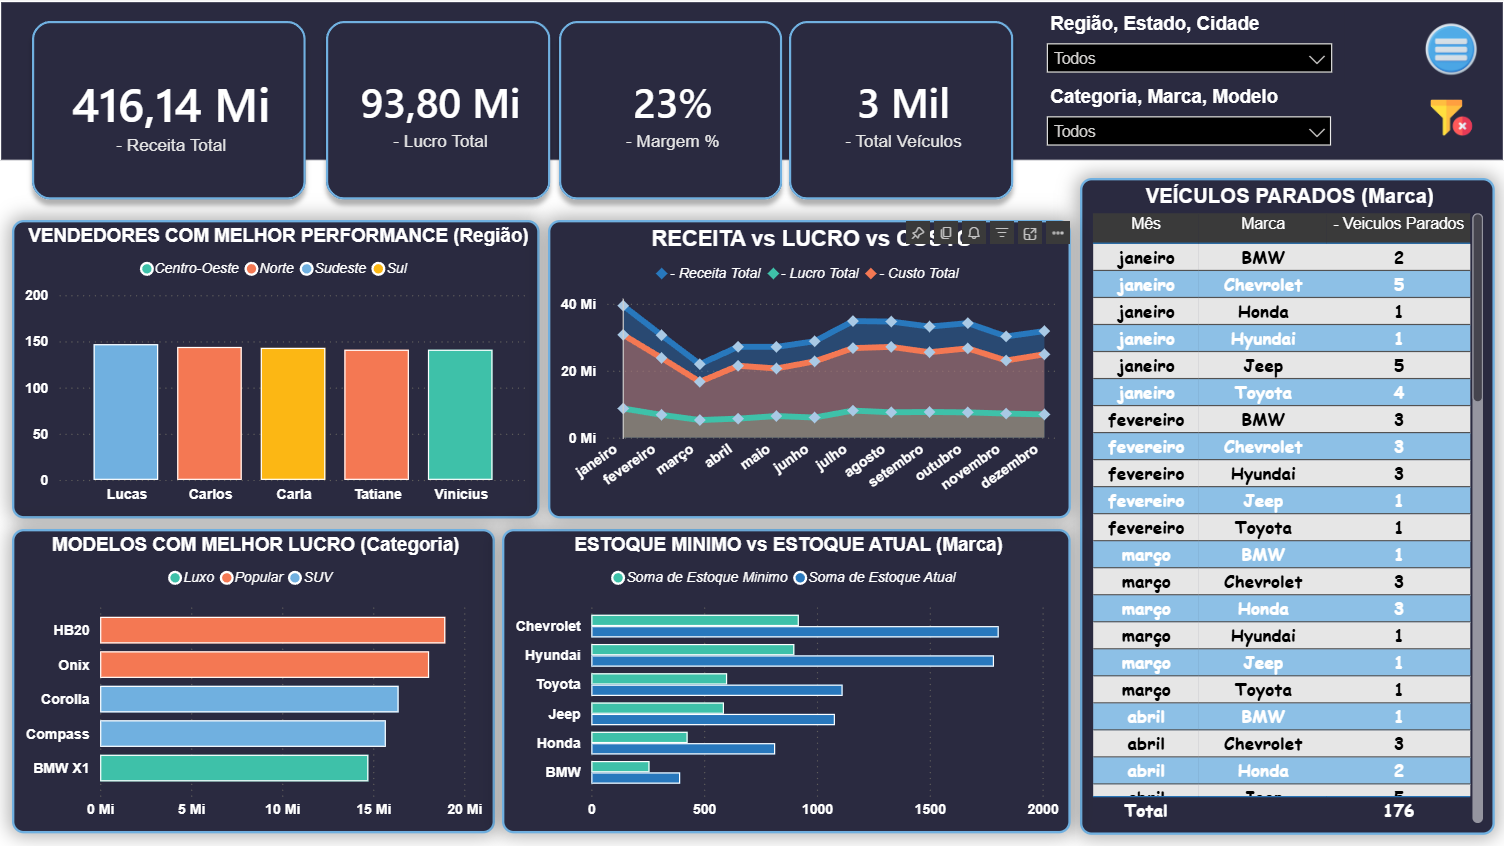

What the dashboard file says about the page in this screenshot:
{"tool":"powerbi","page":{"name":"DASHBOARD - PRINCIPAL","canvas":[1280,720],"ordinal":0},"visuals":[{"type":"shape","box":[0,0,1280,136.1],"z":0},{"type":"cardVisual","fields":{"Data":["Base.Imp Margem %"]},"box":[458.3,0,224.7,186.2],"z":1000},{"type":"cardVisual","fields":{"Data":["Base.Imp Lucro Total"]},"box":[260.6,0,226,186.2],"z":2000},{"type":"cardVisual","title":"RECEITA ","fields":{"Data":["Base.Imp Receita Total"]},"box":[10.3,0,267,186.2],"z":3000},{"type":"cardVisual","fields":{"Data":["Base.Imp Total Veículos"]},"box":[654.8,0,226,186.2],"z":4000},{"type":"columnChart","title":"VENDEDORES COM MELHOR PERFORMANCE (Região)","fields":{"Category":["Base.Vendedor"],"Y":["Base.Imp Total Veículos"],"Series":["Base.Regiao"]},"box":[10.3,186.2,449.3,254.2],"z":5000},{"type":"tableEx","title":"VEÍCULOS PARADOS (Marca)","fields":{"Values":["Base.Data.Variation.Hierarquia de datas.Mês","Base.Marca","Base.- Veiculos Parados"]},"box":[919.5,150.7,353,559],"z":6000},{"type":"barChart","title":"MODELOS COM MELHOR LUCRO (Categoria)","fields":{"Category":["Base.Modelo"],"Y":["Base.Imp Lucro Total"],"Series":["Base.Categoria"]},"box":[10.3,449.3,410.8,259.3],"z":7000},{"type":"clusteredBarChart","title":"ESTOQUE MINIMO vs ESTOQUE ATUAL (Marca)","fields":{"Y":["Sum(Base.Estoque Minimo)","Sum(Base.Estoque Atual)"],"Category":["Base.Marca"]},"box":[427.5,449.3,484,259.3],"z":8000},{"type":"lineChart","title":"RECEITA vs LUCRO vs CUSTO","fields":{"Y":["Base.Imp Receita Total","Base.Imp Lucro Total","Base.Imp Custo Total"],"Category":["Base.Data.Variation.Hierarquia de datas.Mês"]},"box":[466,186.2,445.5,254.2],"z":9000},{"type":"image","box":[1212.2,10,46.5,61.6],"z":11000},{"type":"slicer","fields":{"Values":["Base.Regiao","Base.Estado","Base.Cidade"]},"box":[880.5,6.3,262.5,64.1],"z":18000},{"type":"slicer","fields":{"Values":["Base.Categoria","Base.Marca","Base.Modelo"]},"box":[880.5,68.3,262.5,63.8],"z":19000},{"type":"image","box":[1204.2,67.5,62,63.8],"z":20000}]}

Visuals, with their boxes in screenshot pixels (x1, y1, x2, y2), scaled from the page's 1280x720 canvas onto the 1504x846 screenshot:
shape: bbox=[0, 0, 1503, 160]
cardVisual - Base.Imp Margem %: bbox=[539, 0, 803, 219]
cardVisual - Base.Imp Lucro Total: bbox=[306, 0, 572, 219]
"RECEITA " cardVisual: bbox=[12, 0, 326, 219]
cardVisual - Base.Imp Total Veículos: bbox=[769, 0, 1035, 219]
"VENDEDORES COM MELHOR PERFORMANCE (Região)" columnChart: bbox=[12, 219, 540, 517]
"VEÍCULOS PARADOS (Marca)" tableEx: bbox=[1080, 177, 1495, 834]
"MODELOS COM MELHOR LUCRO (Categoria)" barChart: bbox=[12, 528, 495, 833]
"ESTOQUE MINIMO vs ESTOQUE ATUAL (Marca)" clusteredBarChart: bbox=[502, 528, 1071, 833]
"RECEITA vs LUCRO vs CUSTO" lineChart: bbox=[548, 219, 1071, 517]
image: bbox=[1424, 12, 1479, 84]
slicer - Base.Regiao x Base.Estado: bbox=[1035, 7, 1343, 83]
slicer - Base.Categoria x Base.Marca: bbox=[1035, 80, 1343, 155]
image: bbox=[1415, 79, 1488, 154]
